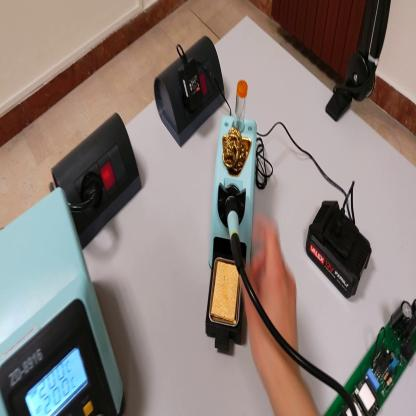electric screwdriver battery: (308, 197, 374, 302)
hand: (239, 215, 301, 363)
high voltage board: (325, 299, 416, 416)
socket: (53, 107, 143, 250), (154, 30, 227, 148)
welder base: (205, 82, 265, 356)
welder probe tip: (225, 193, 245, 275)
welder station: (1, 188, 128, 415)
